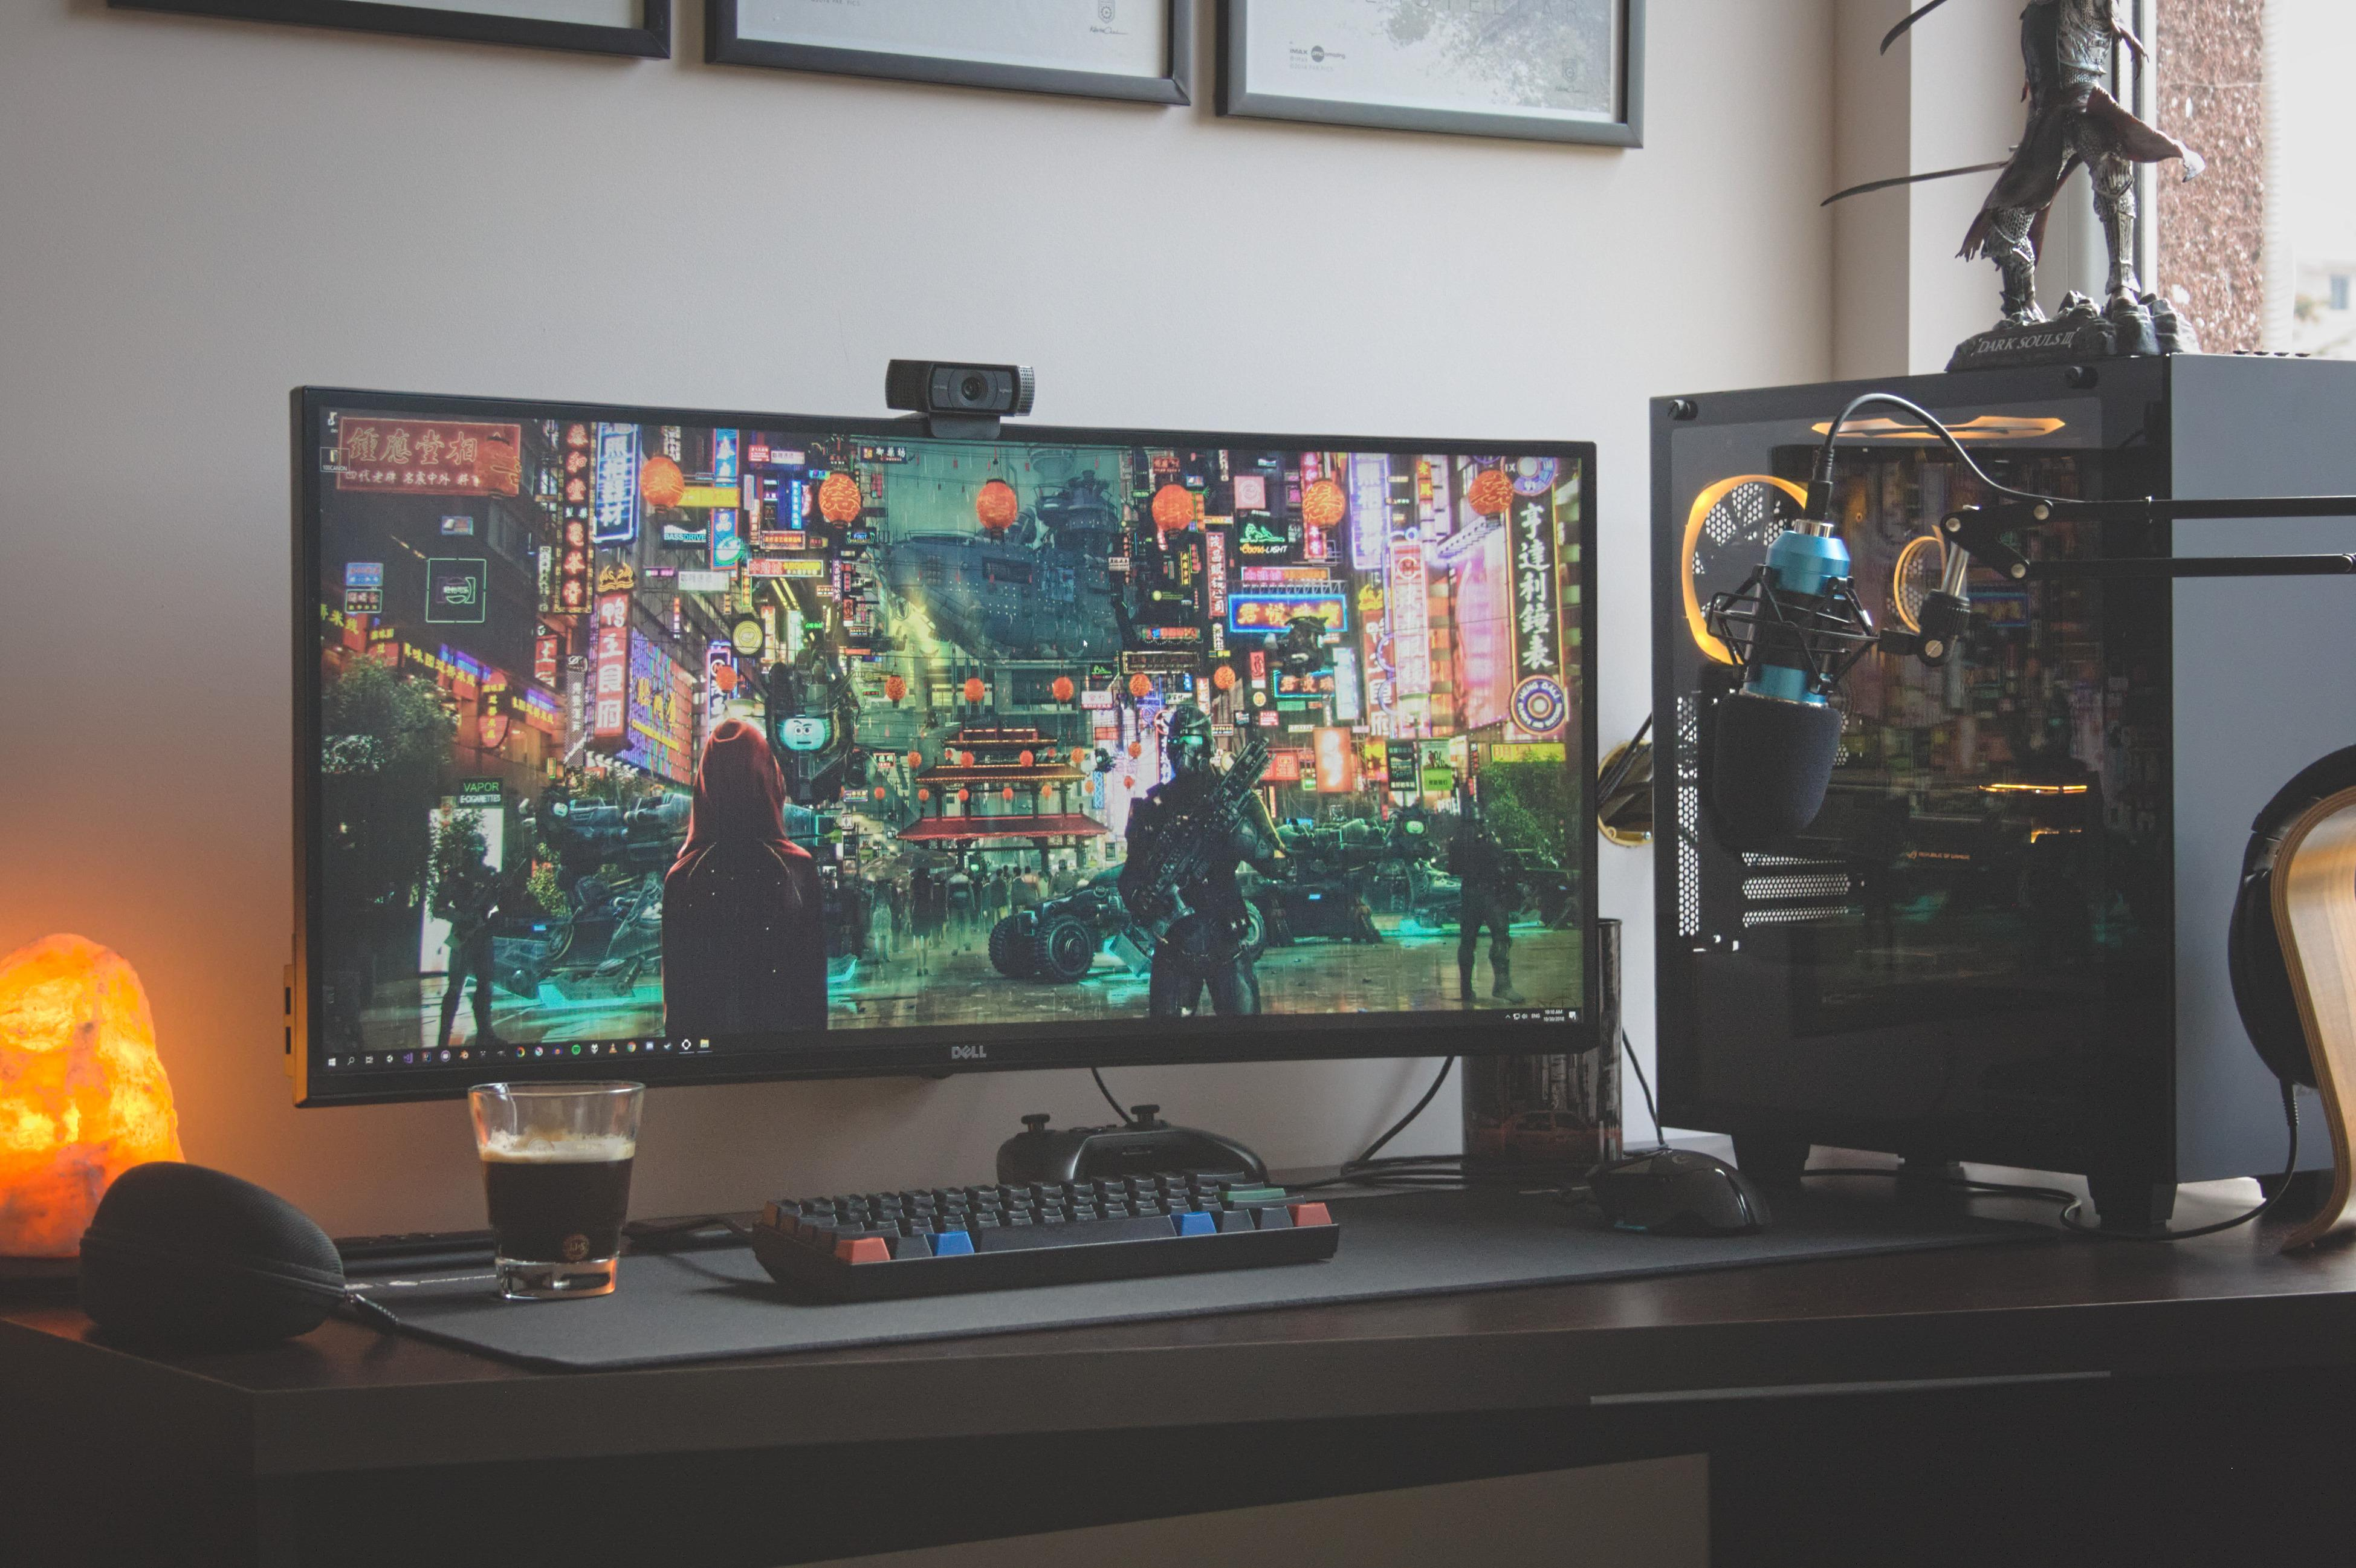Cup: (464, 1076, 635, 1314)
Decoration (Generic): (0, 915, 226, 1277)
Decoration (Miniature): (1975, 0, 2213, 374)
Desk (Generic): (0, 1204, 2354, 1552)
Desktop (Windows): (1628, 378, 2325, 1186)
External Microphone (with Boom Arm): (1693, 488, 1931, 835)
External Webcam: (876, 350, 1062, 444)
Gaming Controller: (988, 1106, 1307, 1183)
Headphones: (2211, 740, 2356, 1102)
Keyboard (Generic): (743, 1150, 1371, 1281)
Monitor (Landscape): (269, 397, 1602, 1052)
Mouse (Gaming): (1572, 1134, 1788, 1241)
Mousepad (Gaming): (353, 1143, 2048, 1365)
